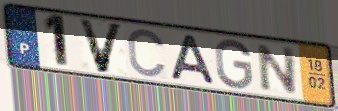1: (41, 13, 72, 72)
A: (167, 33, 218, 87)
C: (126, 28, 169, 80)
G: (214, 38, 255, 92)
N: (257, 42, 299, 96)
V: (76, 16, 126, 75)
